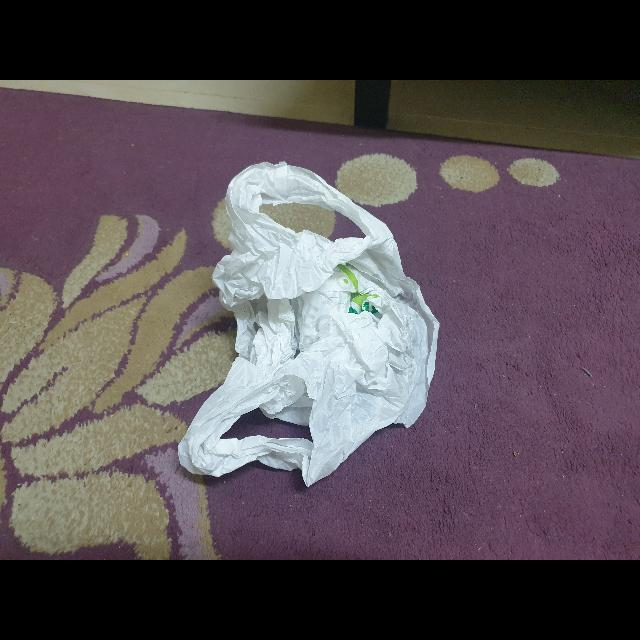plastic_bag: (170, 152, 442, 500)
